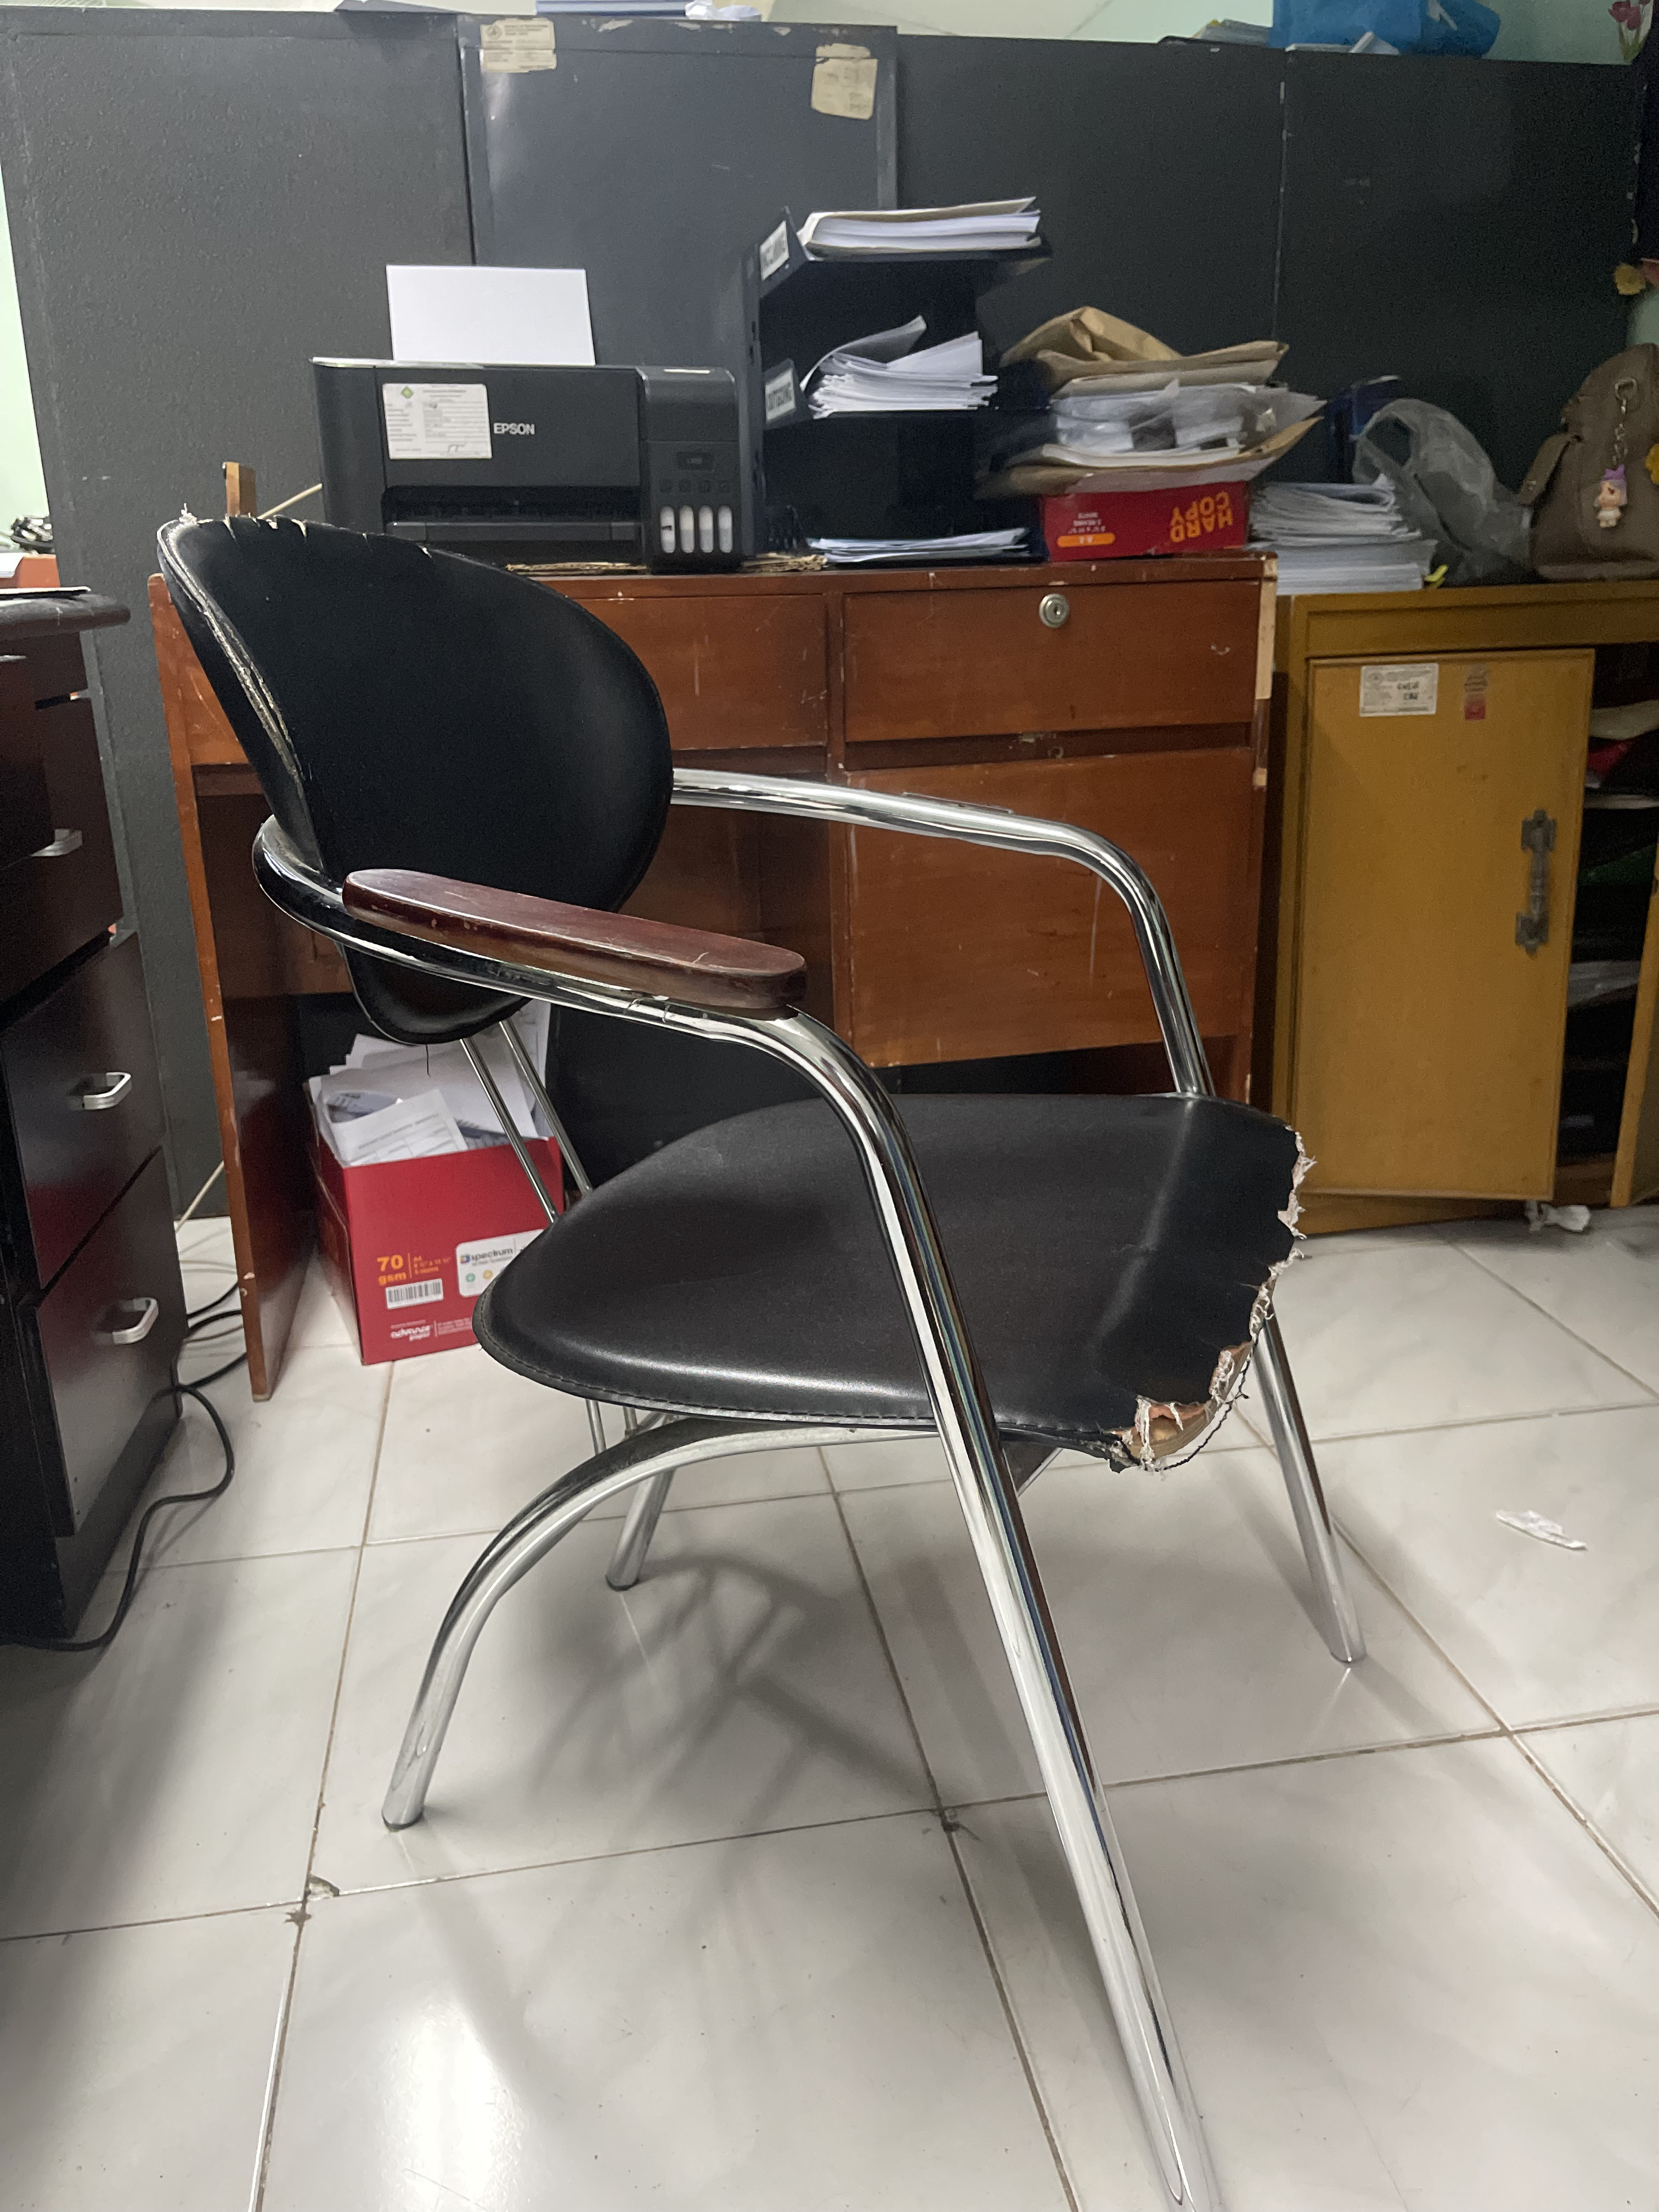chair1: (150, 512, 1392, 2212)
